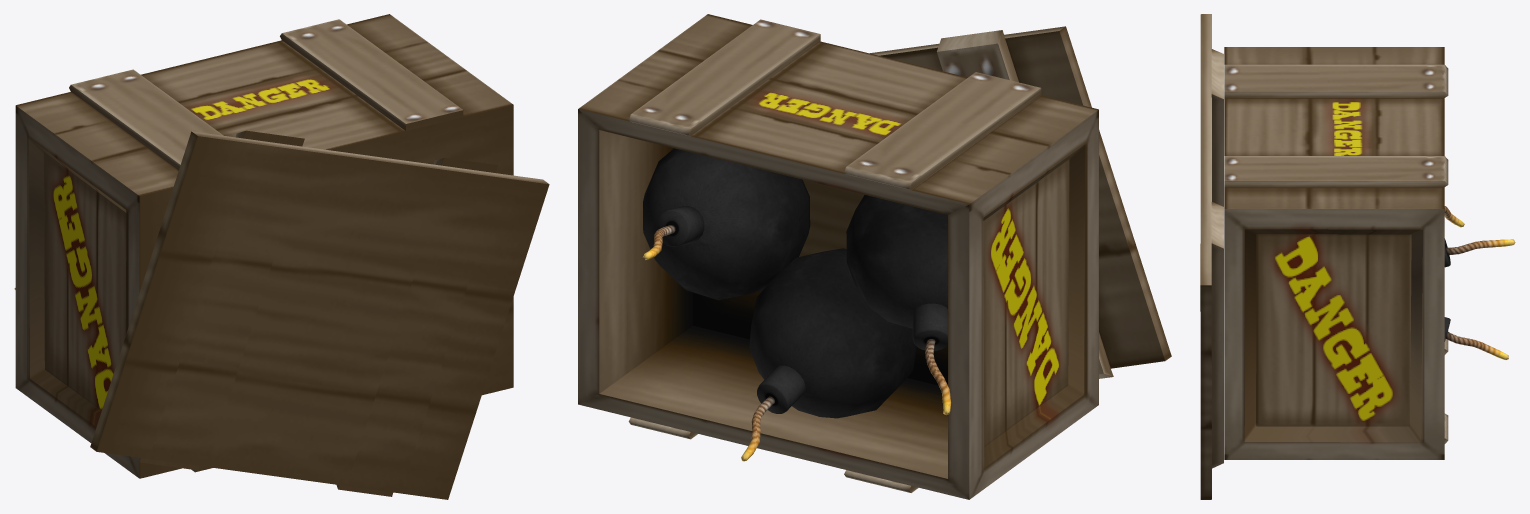
Rendered from Bomb_crate.FBX.
3 renders of one model, left to right at view 1: azimuth 30°, elevation 25°; view 2: azimuth 150°, elevation 25°; view 3: azimuth 270°, elevation 25°, orthographic. The views are drawn at different scales.
Visible parts, largest first — view 1: Bomb_Crate; view 2: Bomb_Crate, Bombs; view 3: Bomb_Crate, Bombs.
Boxes of the visible parts, x1,y1,x2,y2 form: Bomb_Crate: (15, 14, 549, 499); Bomb_Crate: (578, 14, 1171, 499); Bombs: (643, 148, 951, 461); Bomb_Crate: (1200, 14, 1448, 499); Bombs: (1444, 206, 1515, 359).
Size of the model in its own units: 1.17 by 1.05 by 0.7961.
